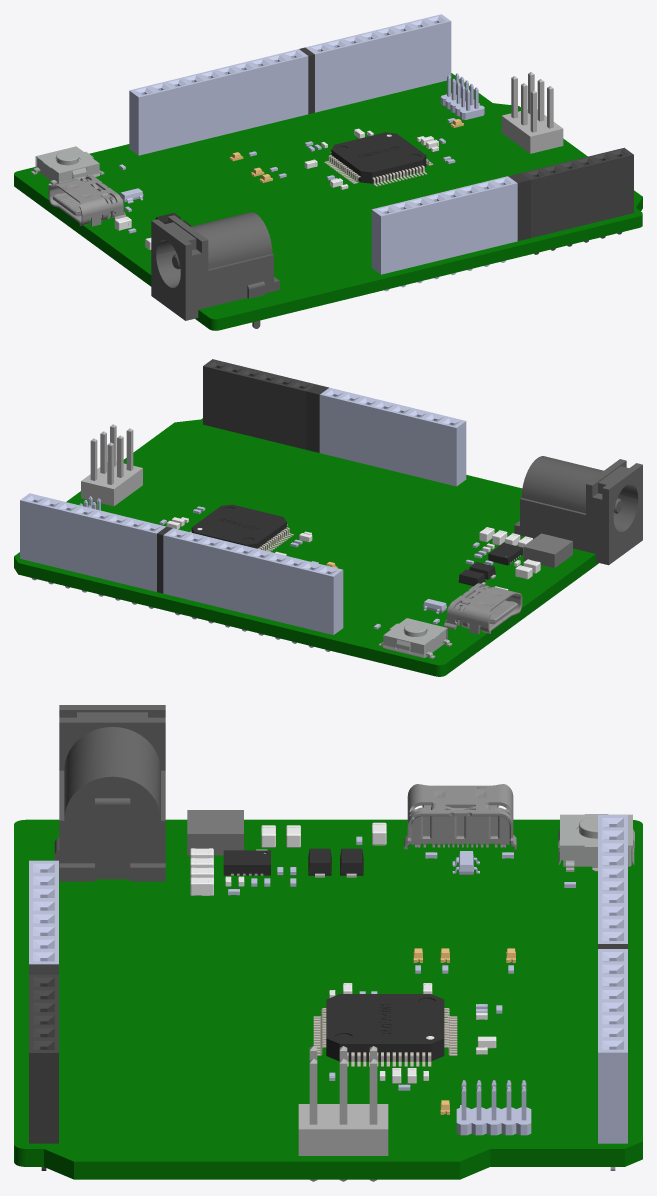
File: arduino-uno-r4-minima.glb
The picture shows the model from 3 angles, top to bottom: view 1: azimuth 30°, elevation 25°; view 2: azimuth 150°, elevation 25°; view 3: azimuth 270°, elevation 25°; orthographic projection. The views are drawn at different scales.
Parts seen in each view (by area): view 1: PCB, JDIGITAL, JANALOG, J4, CAD_GEOMETRY_UNIDENTIFIED, U1, J3, PB1; view 2: PCB, JDIGITAL, JANALOG, J4, CAD_GEOMETRY_UNIDENTIFIED, U1, J3, PB1; view 3: PCB, CAD_GEOMETRY_UNIDENTIFIED, J4, JDIGITAL, U1, JANALOG, J3, PB1.
Boxes of the visible parts, x1,y1,x2,y2 form: PCB: [14, 73, 642, 330]; JDIGITAL: [129, 14, 451, 155]; JANALOG: [371, 147, 633, 291]; J4: [151, 212, 279, 328]; CAD_GEOMETRY_UNIDENTIFIED: [114, 72, 563, 249]; U1: [324, 132, 433, 186]; J3: [48, 175, 126, 226]; PB1: [31, 146, 104, 186]; PCB: [14, 418, 598, 676]; JDIGITAL: [20, 493, 343, 651]; JANALOG: [203, 359, 466, 486]; J4: [514, 456, 642, 565]; CAD_GEOMETRY_UNIDENTIFIED: [79, 424, 572, 629]; U1: [190, 504, 293, 551]; J3: [444, 583, 522, 634]; PB1: [378, 618, 452, 658]; PCB: [14, 819, 642, 1179]; CAD_GEOMETRY_UNIDENTIFIED: [187, 810, 575, 1181]; J4: [54, 705, 165, 881]; JDIGITAL: [598, 815, 627, 1170]; U1: [313, 994, 457, 1066]; JANALOG: [29, 860, 58, 1170]; J3: [404, 784, 516, 849]; PB1: [558, 814, 634, 871].
Bounding box in the file's own units: 0.0705 × 0.0145 × 0.0533.
